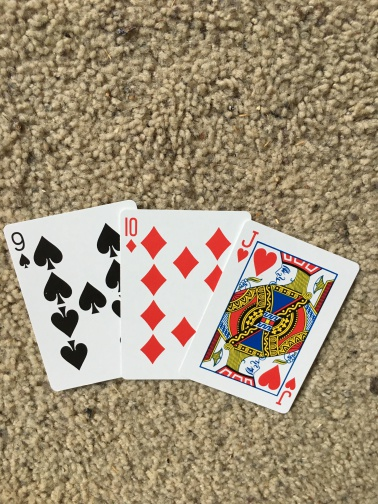jack: (185, 220, 359, 411)
nine: (4, 200, 124, 392)
ten: (120, 208, 234, 380)
